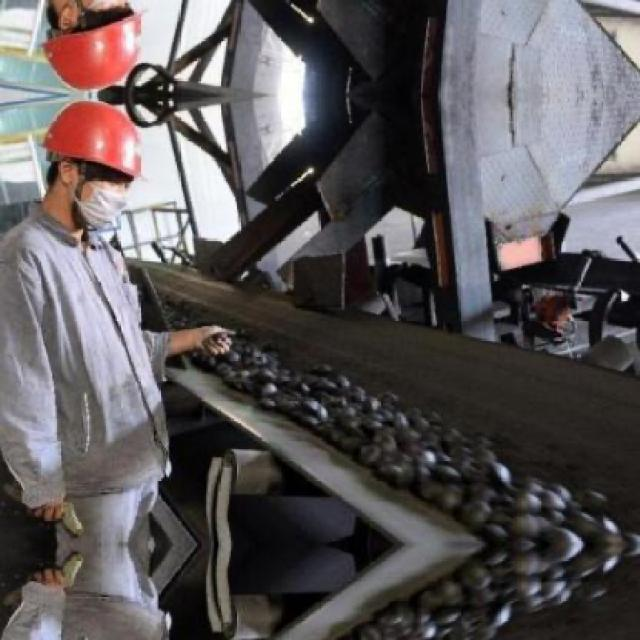helmet: (31, 95, 152, 228), (29, 0, 152, 94)
